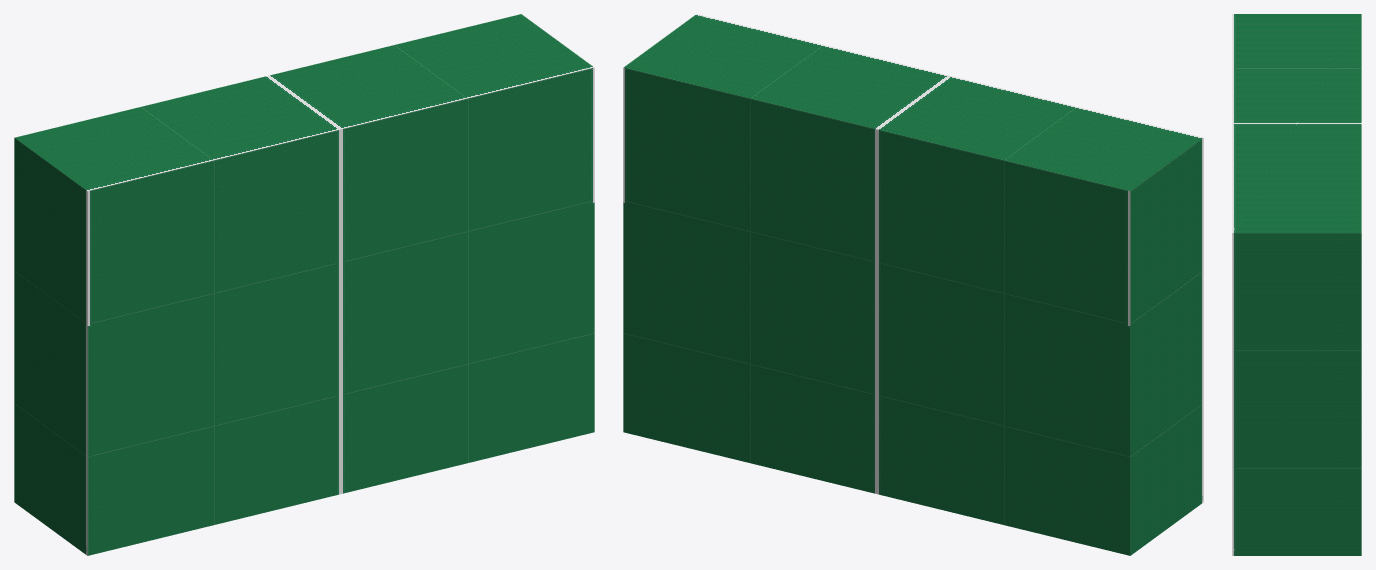
File: CoverFull.glb
3 renders of one model, left to right at view 1: azimuth 30°, elevation 25°; view 2: azimuth 150°, elevation 25°; view 3: azimuth 270°, elevation 25°, orthographic. The views are drawn at different scales.
Visible parts, largest first — view 1: CoverFull; view 2: CoverFull; view 3: CoverFull.
Part boxes in pixels (bbox=[...]): CoverFull: bbox=[14, 14, 594, 555]; CoverFull: bbox=[623, 14, 1203, 555]; CoverFull: bbox=[1232, 14, 1361, 555].
Size of the model in its own units: 8 by 5.5 by 2.
1 material, 1 textured.
